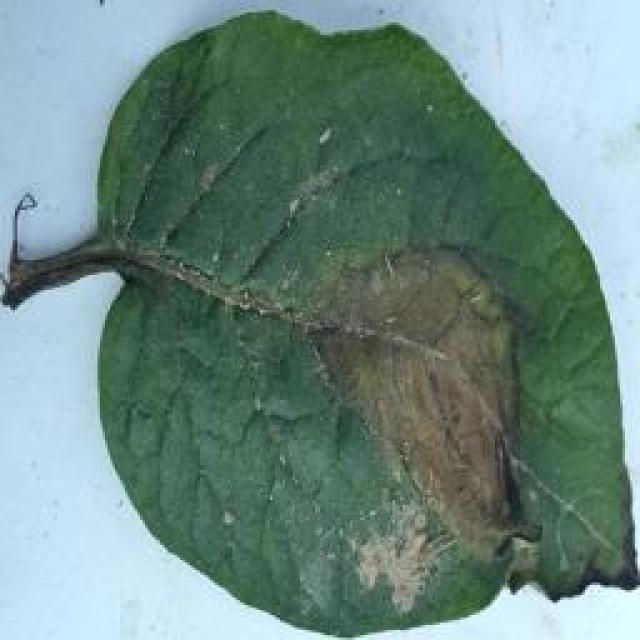Potato_Late_Blight: (5, 9, 625, 630)
